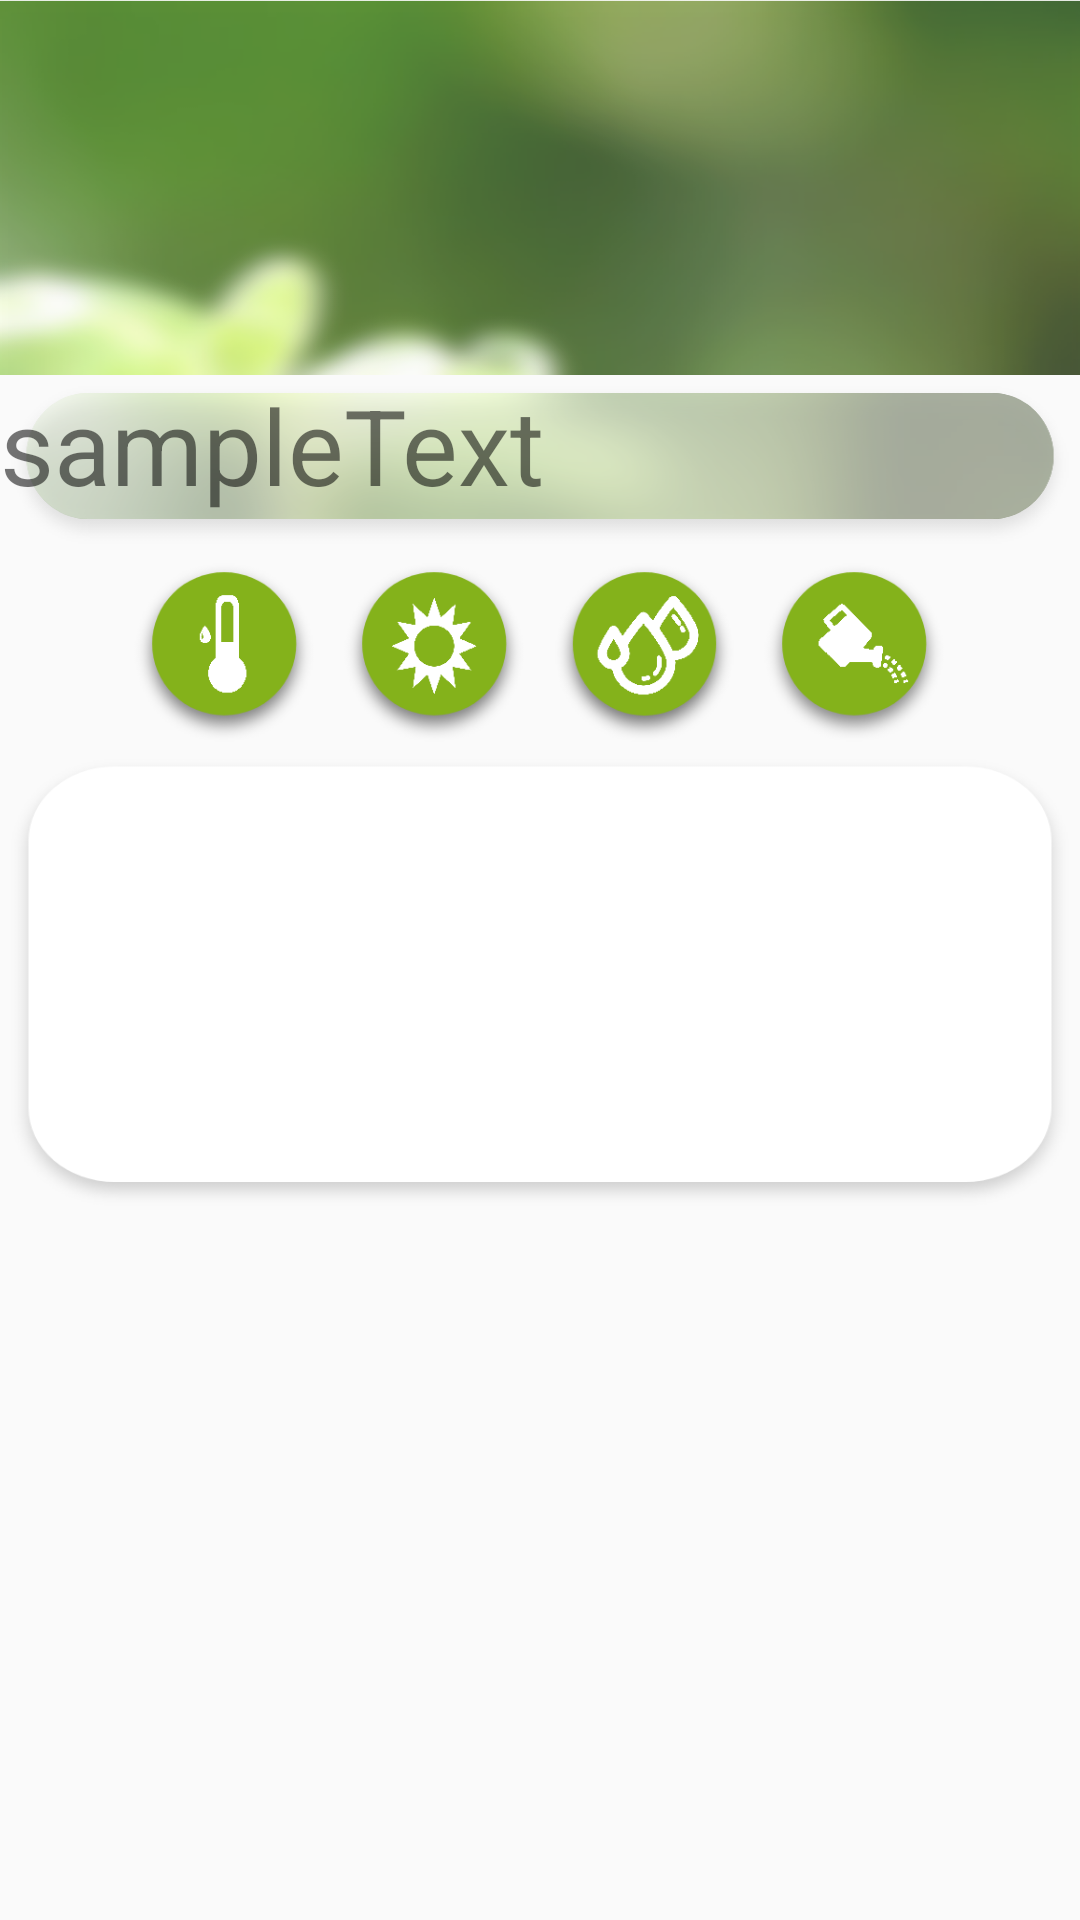

Where icons sit on this 1080×1920 app screen, as (x1, y1, x2, y2):
humudity: (566, 572, 723, 731)
